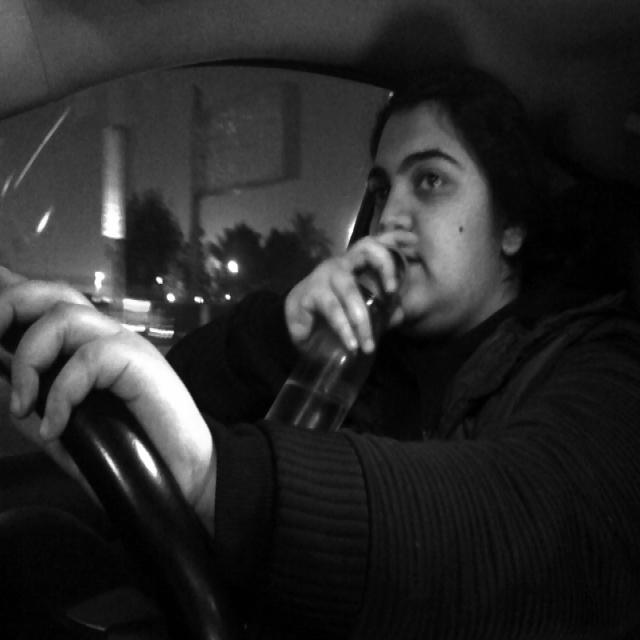drinking: (232, 248, 409, 487)
